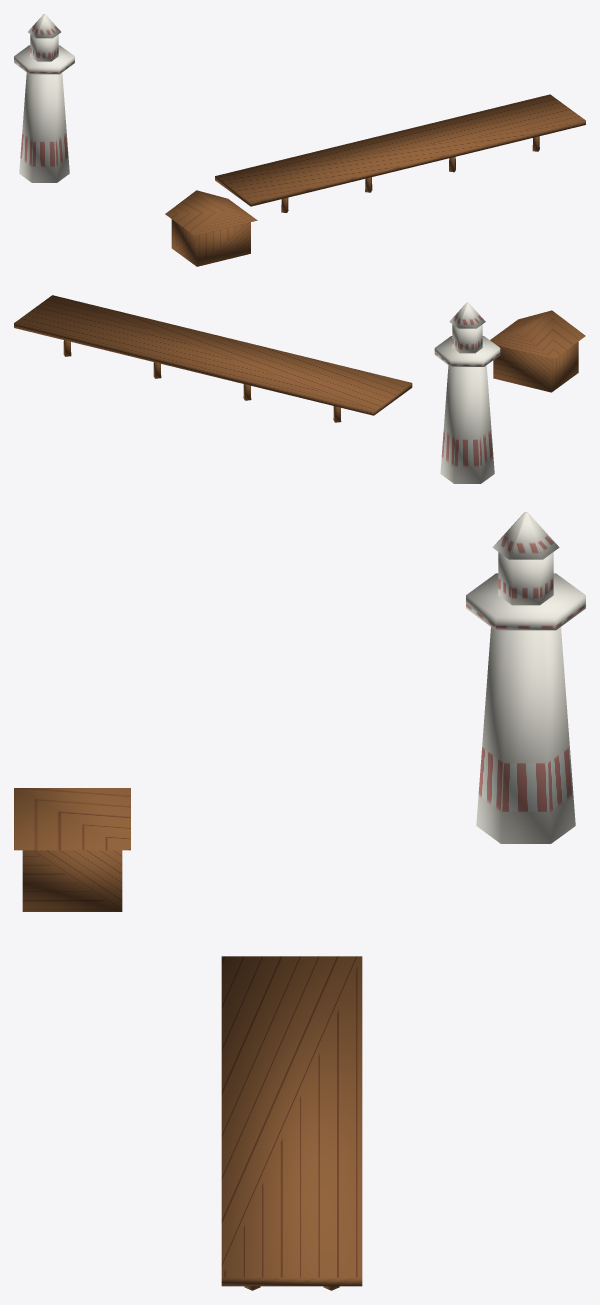
File: PORT_LOD2.fbx
The picture shows the model from 3 angles, top to bottom: view 1: azimuth 30°, elevation 25°; view 2: azimuth 150°, elevation 25°; view 3: azimuth 270°, elevation 25°; orthographic projection. The views are drawn at different scales.
Parts seen in each view (by area): view 1: PORT_LOD2; view 2: PORT_LOD2; view 3: PORT_LOD2.
Boxes of the visible parts, x1,y1,x2,y2 form: PORT_LOD2: (14, 14, 585, 266); PORT_LOD2: (14, 295, 585, 483); PORT_LOD2: (14, 512, 585, 1290).
Size of the model in its own units: 37.78 by 19.55 by 13.93.
